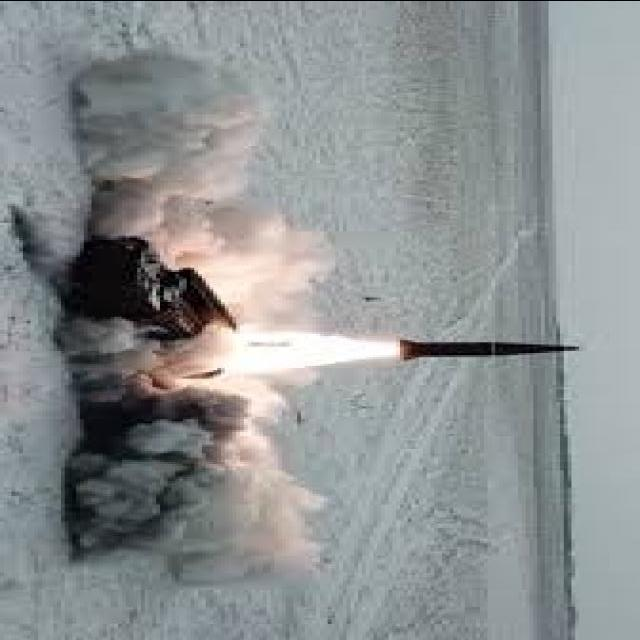Missile: (391, 330, 591, 365)
